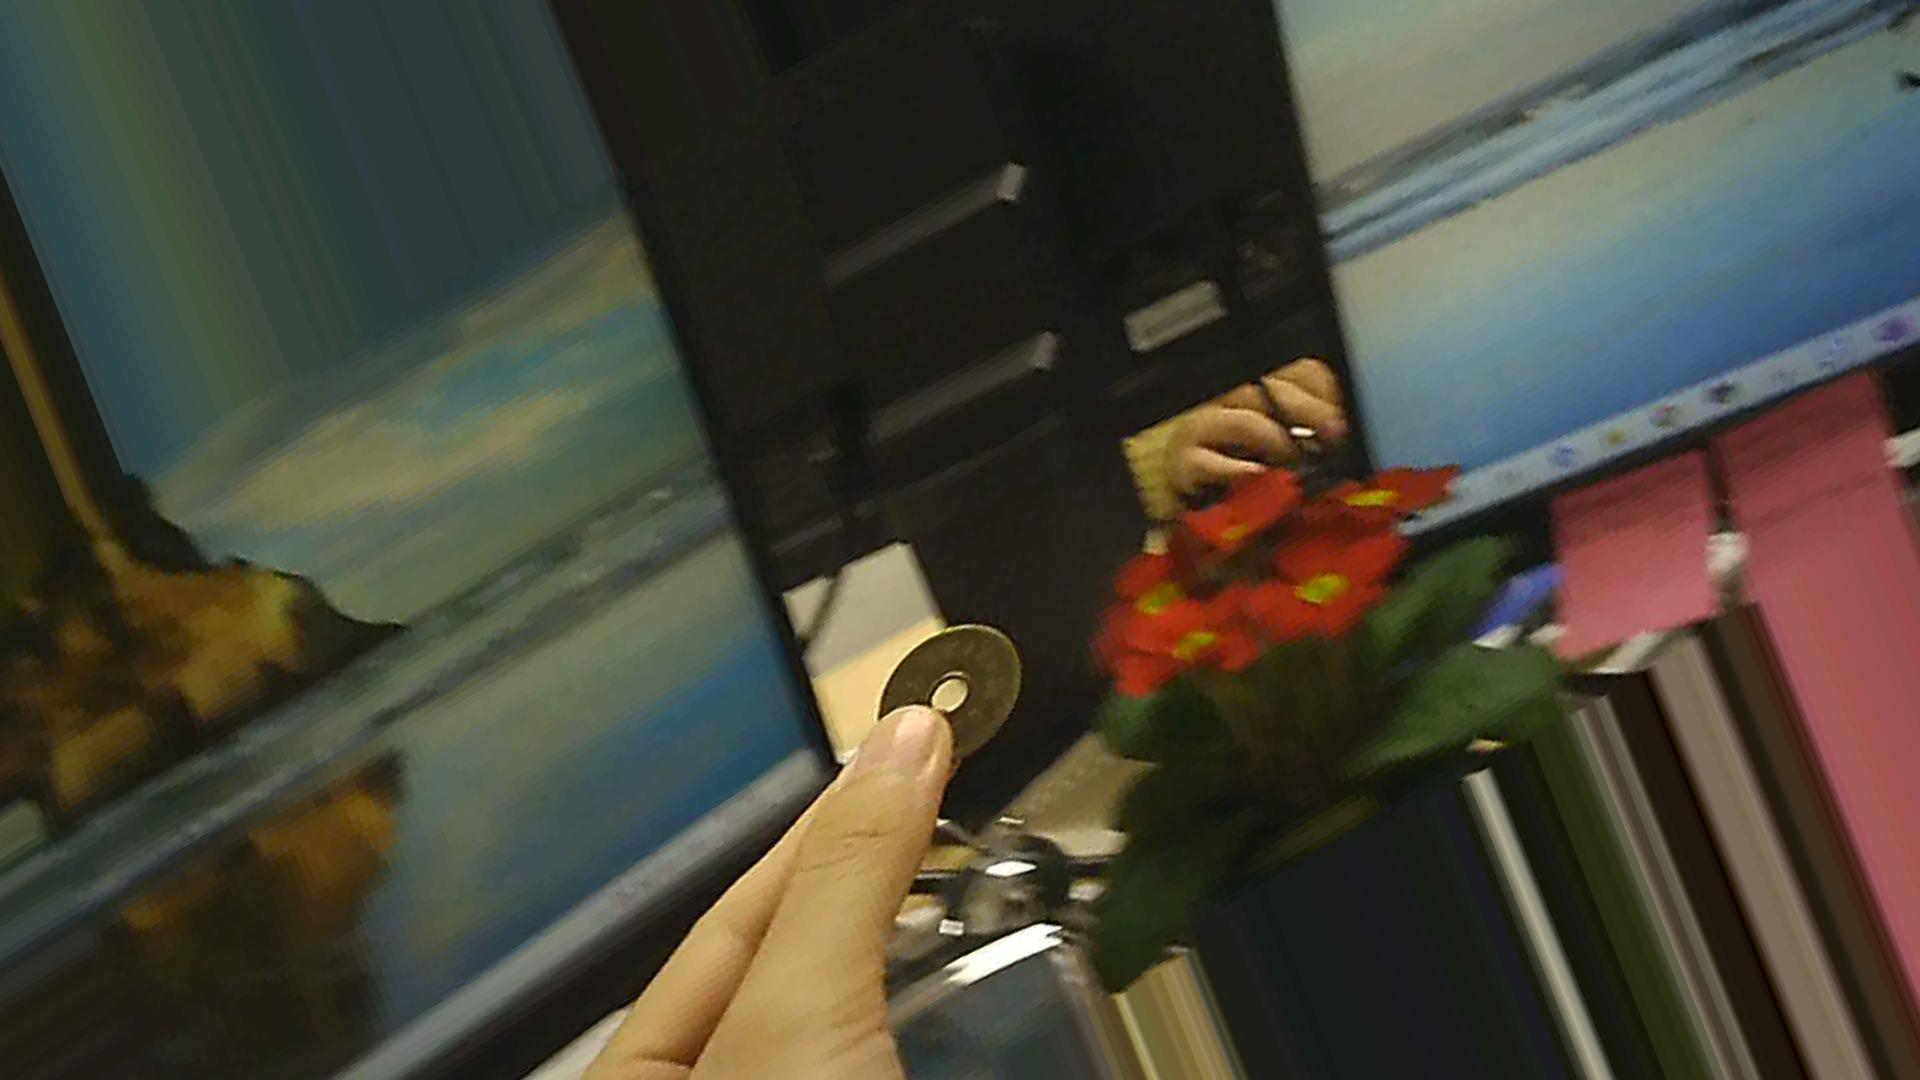5 Yen: (860, 624, 1030, 752)
